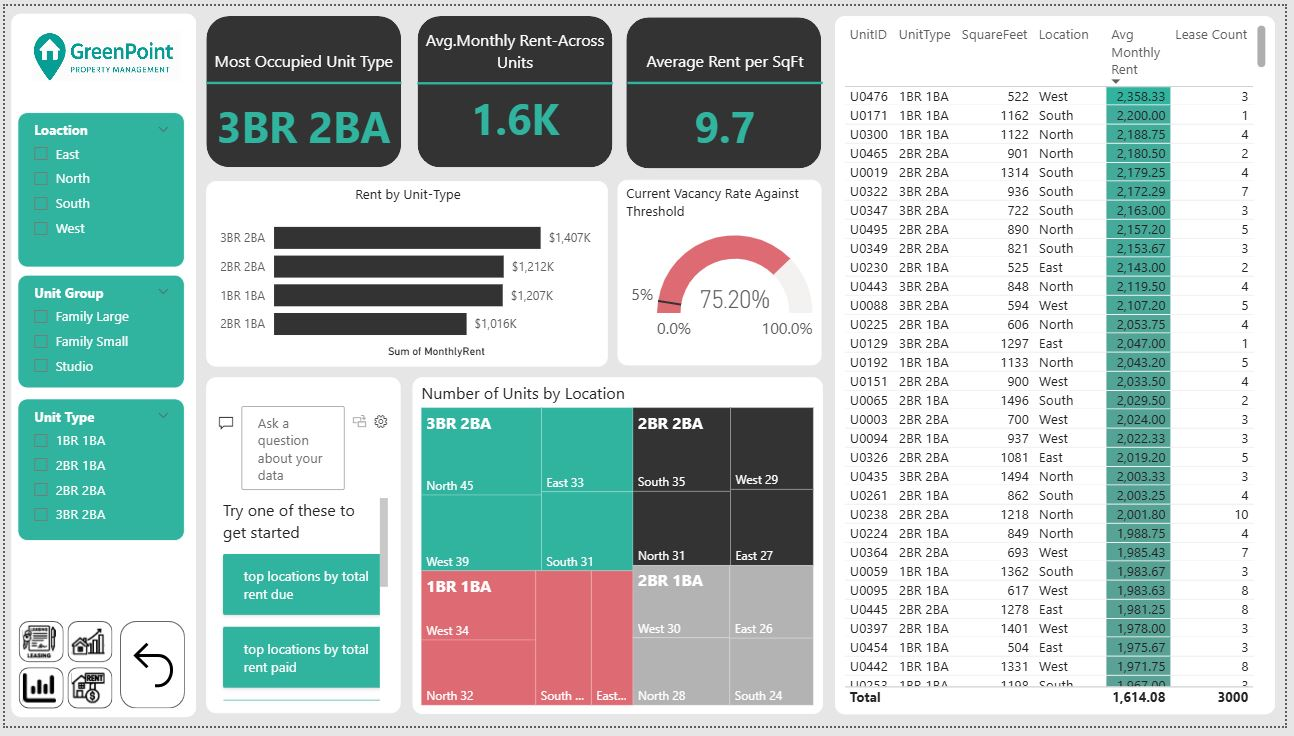

The dashboard page shown, as its layout file describes it:
{"tool":"powerbi","page":{"name":"Unit Portfolio Performance ","canvas":[1280,720],"ordinal":3},"visuals":[{"type":"shape","box":[201.2,10,195,151.2],"z":0},{"type":"shape","box":[411.9,10,195,151.4],"z":1000},{"type":"shape","box":[621.2,11.2,195,151.2],"z":1500},{"type":"card","title":"Average Rent per SqFt","fields":{"Values":["Measures Table.Average Rent per SqFt"]},"box":[622.9,44.3,195,117.1],"z":2000},{"type":"card","title":"Most Occupied Unit Type","fields":{"Values":["Measures Table.Most Occupied Unit Type"]},"box":[201.4,44.3,195,117.1],"z":3000},{"type":"clusteredBarChart","title":"Rent by Unit-Type ","fields":{"Category":["Units.UnitType"],"Y":["Sum(Leases.MonthlyRent)"]},"box":[200.9,174.5,401.8,185.5],"z":5000},{"type":"treemap","title":"Number of Units by Location","fields":{"Group":["Units.UnitType"],"Values":["CountNonNull(Units.UnitType)"],"Details":["Units.Location"]},"box":[407.1,371.4,410,337.1],"z":6000},{"type":"tableEx","fields":{"Values":["Leases.UnitID","Units.UnitType","Units.SquareFeet","Units.Location","Measures Table.Avg Monthly Rent","Leases.LeaseID"]},"box":[830,10,440,698.6],"z":7000},{"type":"card","title":"Avg.Monthly Rent-Across Units","fields":{"Values":["Measures Table.Average Monthly Rent"]},"box":[412.1,22.9,195,123.6],"z":8000},{"type":"gauge","title":"Current Vacancy Rate Against Threshold","fields":{"Y":["Measures Table.Vacancy Rate"],"TargetValue":["Measures Table.Vacancy Target"]},"box":[612.9,174.3,204.3,185.7],"z":9000},{"type":"qnaVisual","box":[200.9,371.8,194.5,336.4],"z":10000},{"type":"shape","title":"Left Nav. Background","box":[6.2,7.5,185,703.8],"z":12000},{"type":"slicer","fields":{"Values":["Units.Location"]},"box":[12.5,106.2,167.5,155],"z":13000},{"type":"slicer","fields":{"Values":["Units.UnitGroup"]},"box":[12.5,268.8,167.5,113.8],"z":14000},{"type":"image","box":[22.5,20,157.5,60],"z":15000},{"type":"actionButton","box":[13.8,615.2,45,41.2],"z":16000},{"type":"actionButton","box":[62.5,615.2,45,41.2],"z":17000},{"type":"actionButton","box":[62.5,661.5,45,41.2],"z":18000},{"type":"actionButton","box":[115,615.2,65,87.5],"z":19000},{"type":"actionButton","box":[13.8,661.5,45,41.2],"z":20000},{"type":"slicer","fields":{"Values":["Units.UnitType"]},"box":[12.5,392.5,167.5,142.5],"z":21000}]}

Visuals, with their boxes in screenshot pixels (x1, y1, x2, y2), scaled from the page's 1280x720 canvas onto the 1294x736 screenshot:
shape: {"x1": 203, "y1": 10, "x2": 401, "y2": 165}
shape: {"x1": 416, "y1": 10, "x2": 614, "y2": 165}
shape: {"x1": 628, "y1": 11, "x2": 825, "y2": 166}
"Average Rent per SqFt" card: {"x1": 630, "y1": 45, "x2": 827, "y2": 165}
"Most Occupied Unit Type" card: {"x1": 204, "y1": 45, "x2": 401, "y2": 165}
"Rent by Unit-Type " clusteredBarChart: {"x1": 203, "y1": 178, "x2": 609, "y2": 368}
"Number of Units by Location" treemap: {"x1": 412, "y1": 380, "x2": 826, "y2": 724}
tableEx - Leases.UnitID x Units.UnitType: {"x1": 839, "y1": 10, "x2": 1284, "y2": 724}
"Avg.Monthly Rent-Across Units" card: {"x1": 417, "y1": 23, "x2": 614, "y2": 150}
"Current Vacancy Rate Against Threshold" gauge: {"x1": 620, "y1": 178, "x2": 826, "y2": 368}
qnaVisual: {"x1": 203, "y1": 380, "x2": 400, "y2": 724}
"Left Nav. Background" shape: {"x1": 6, "y1": 8, "x2": 193, "y2": 727}
slicer - Units.Location: {"x1": 13, "y1": 109, "x2": 182, "y2": 267}
slicer - Units.UnitGroup: {"x1": 13, "y1": 275, "x2": 182, "y2": 391}
image: {"x1": 23, "y1": 20, "x2": 182, "y2": 82}
actionButton: {"x1": 14, "y1": 629, "x2": 59, "y2": 671}
actionButton: {"x1": 63, "y1": 629, "x2": 109, "y2": 671}
actionButton: {"x1": 63, "y1": 676, "x2": 109, "y2": 718}
actionButton: {"x1": 116, "y1": 629, "x2": 182, "y2": 718}
actionButton: {"x1": 14, "y1": 676, "x2": 59, "y2": 718}
slicer - Units.UnitType: {"x1": 13, "y1": 401, "x2": 182, "y2": 547}
